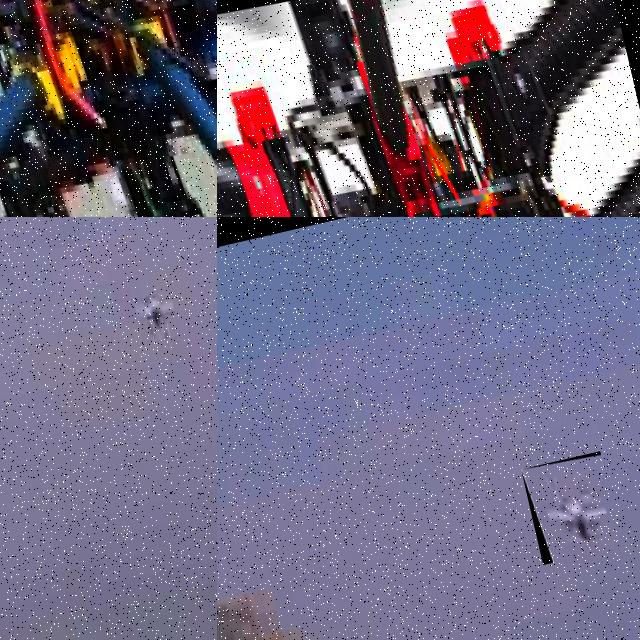0: (521, 450, 622, 564)
drone: (217, 0, 640, 217), (0, 0, 217, 217)
